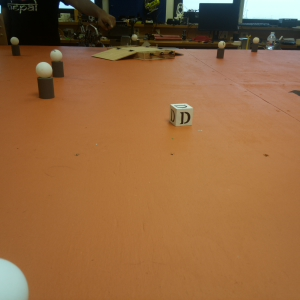blockD: (168, 103, 195, 127)
obstacle: (36, 62, 52, 99), (52, 48, 64, 77), (11, 36, 20, 57), (217, 40, 226, 59), (252, 36, 259, 52)
side: (139, 51, 175, 59)
slope: (92, 48, 136, 61)
